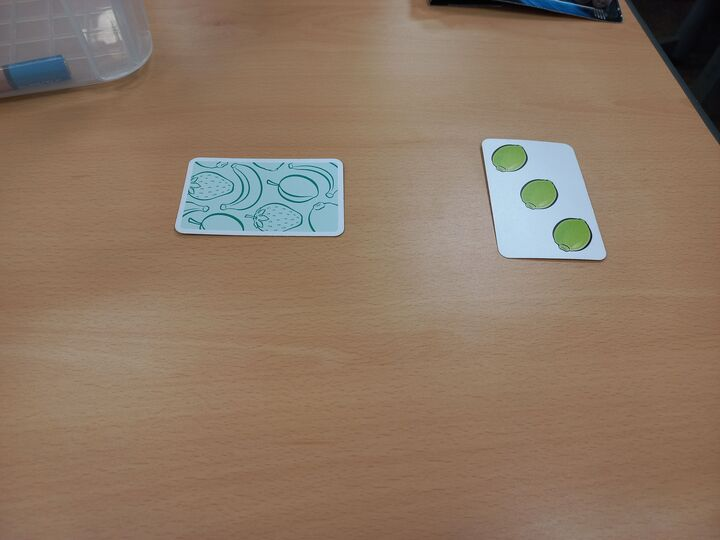lime3: (480, 136, 611, 263)
